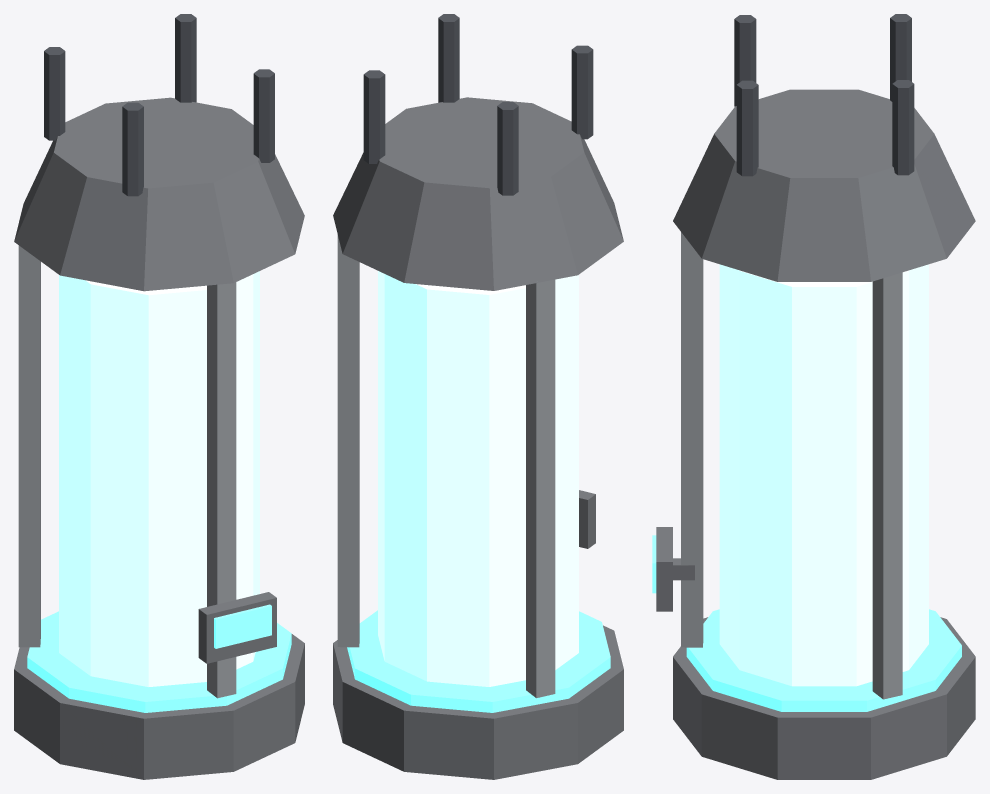
The model's file is SM_Stasis_Pod.glb.
3 views of the same model, side by side, from view 1: azimuth 30°, elevation 25°; view 2: azimuth 150°, elevation 25°; view 3: azimuth 270°, elevation 25° (orthographic).
Visible parts, largest first — view 1: SM_Stasis_Pod; view 2: SM_Stasis_Pod; view 3: SM_Stasis_Pod.
Part boxes in pixels (box(x1,y1,x2,y2)): SM_Stasis_Pod: box(14, 14, 304, 779); SM_Stasis_Pod: box(333, 14, 623, 779); SM_Stasis_Pod: box(652, 14, 975, 779).
Size of the model in its own units: 1.05 by 2.67 by 1.18.
